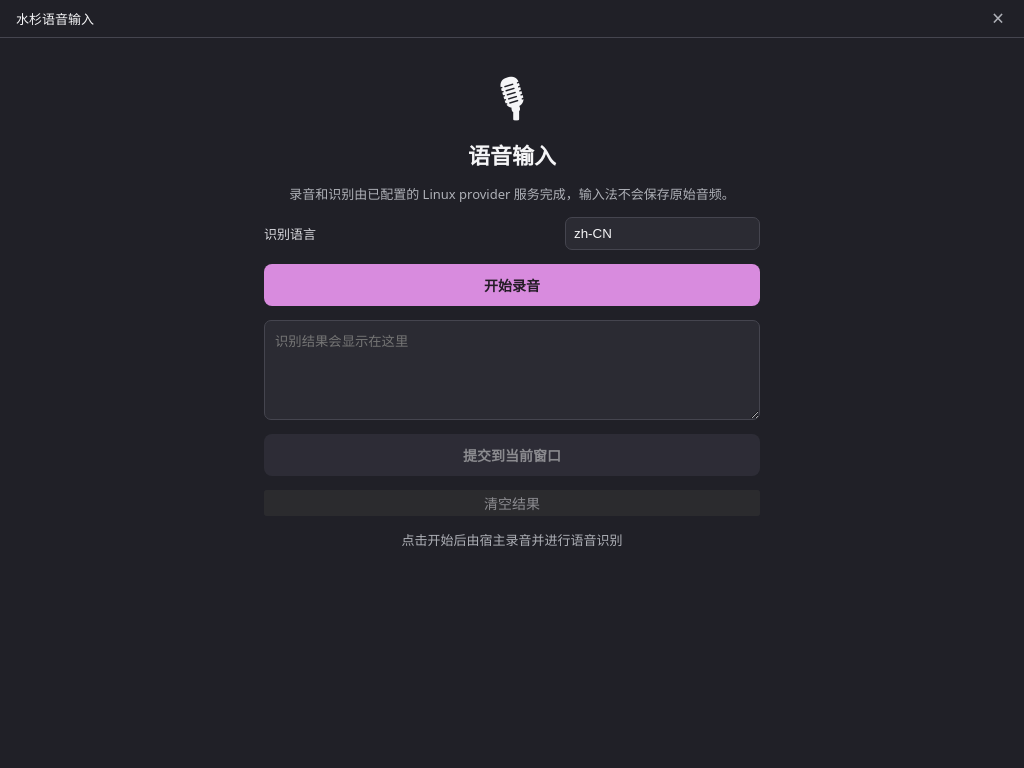
Test: a completed voice submission preserves a newer edit
In the text box labelled "识别结果": (512, 370) [264,320,760,420], type "fixture-original"
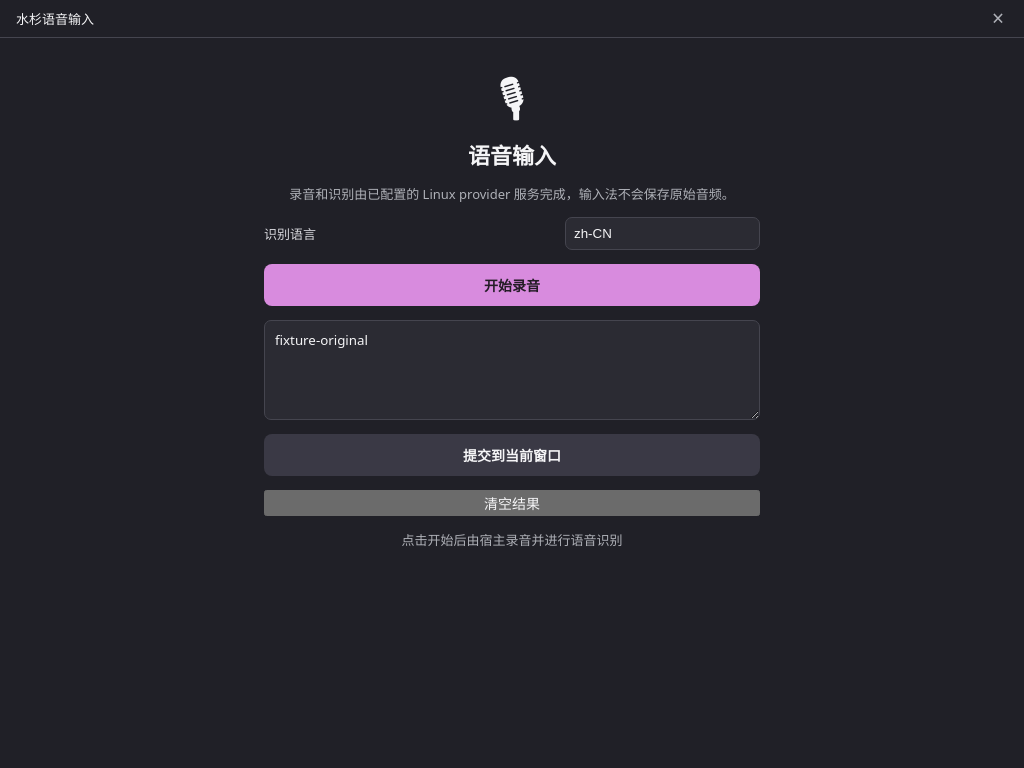
Click the button "提交到当前窗口": (512, 455) [264,434,760,476]
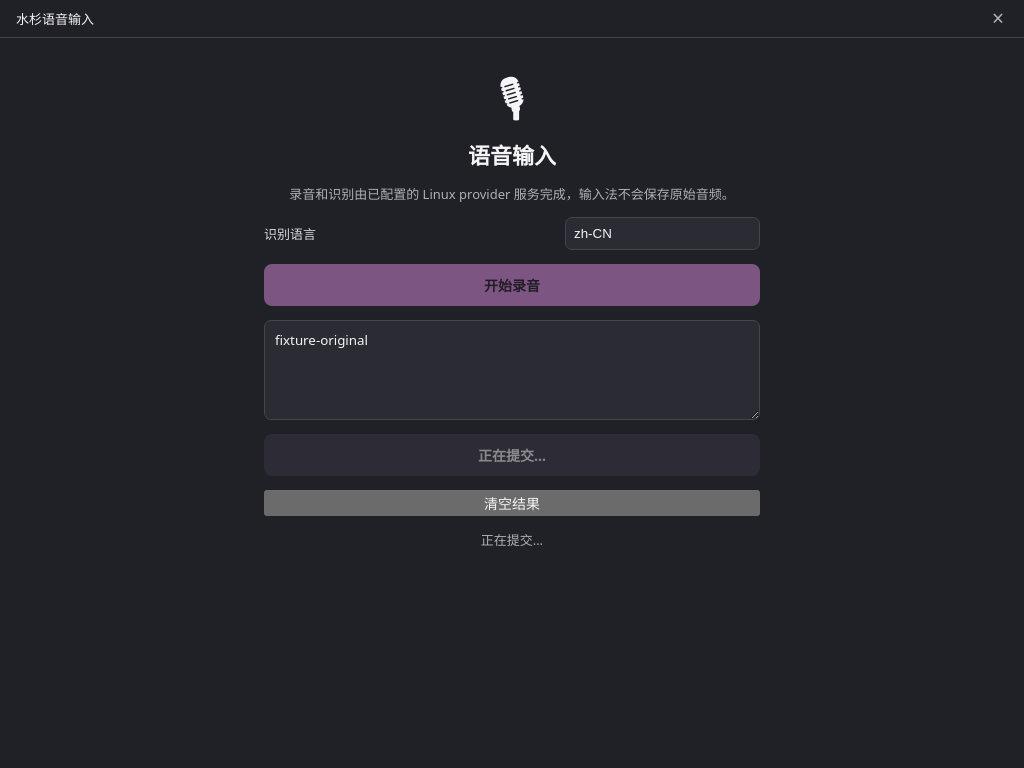
Replace the text in the text box named "识别结果" with "fixture-new": (512, 370) [264,320,760,420]
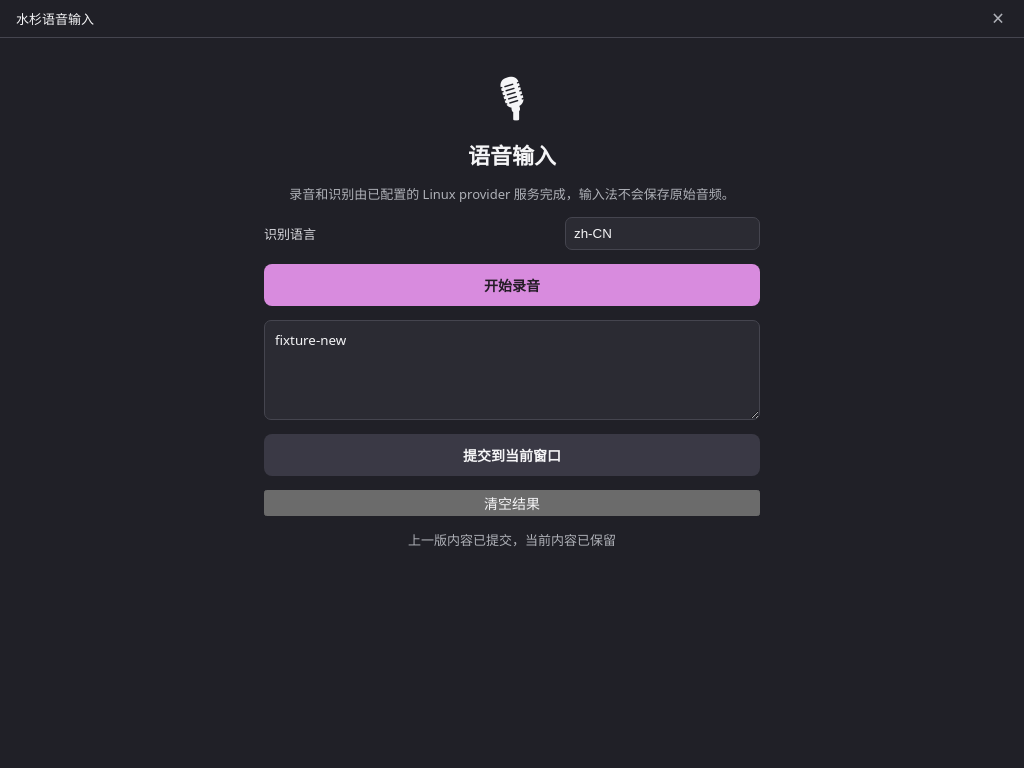
expect the button "提交到当前窗口" is enabled: met, box [264,434,760,476]
